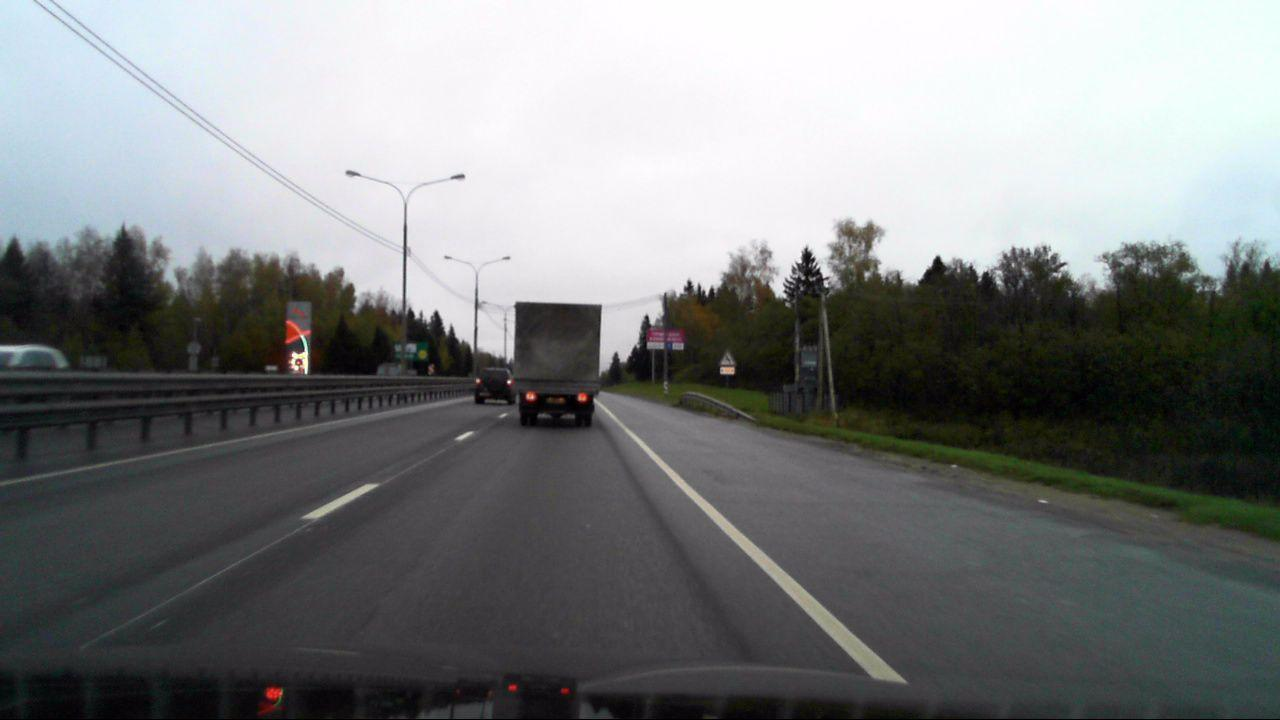1_27: (718, 349, 736, 367)
8_2_1: (719, 367, 735, 374)
